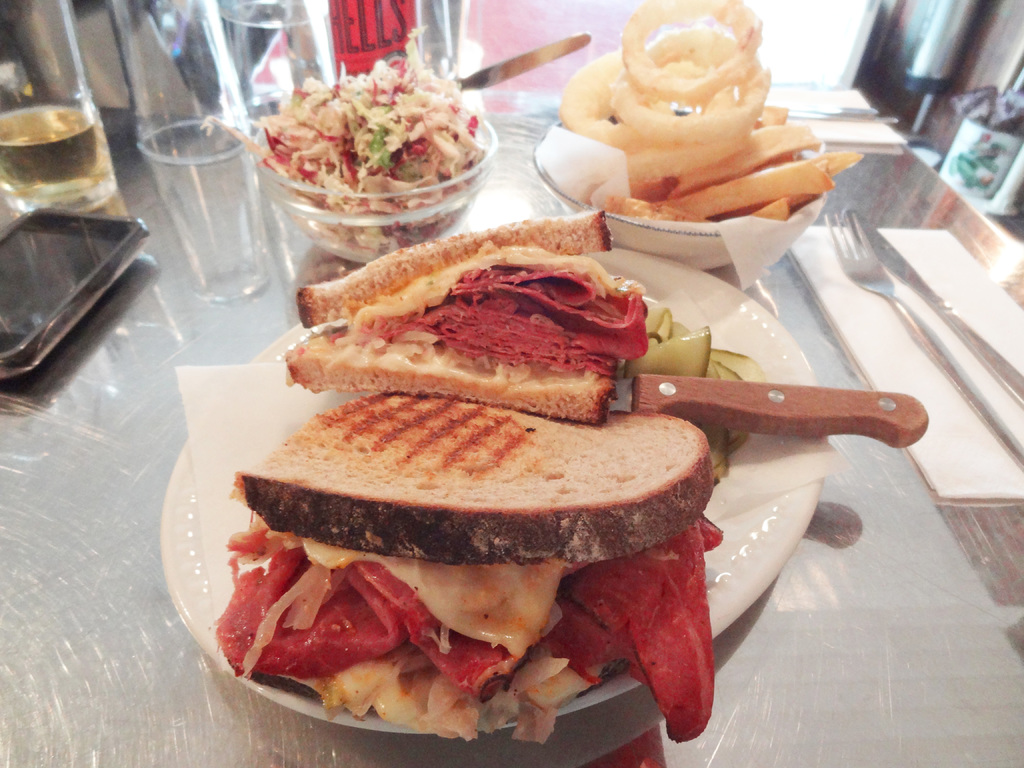sandwich: (198, 382, 731, 741), (285, 200, 709, 430)
